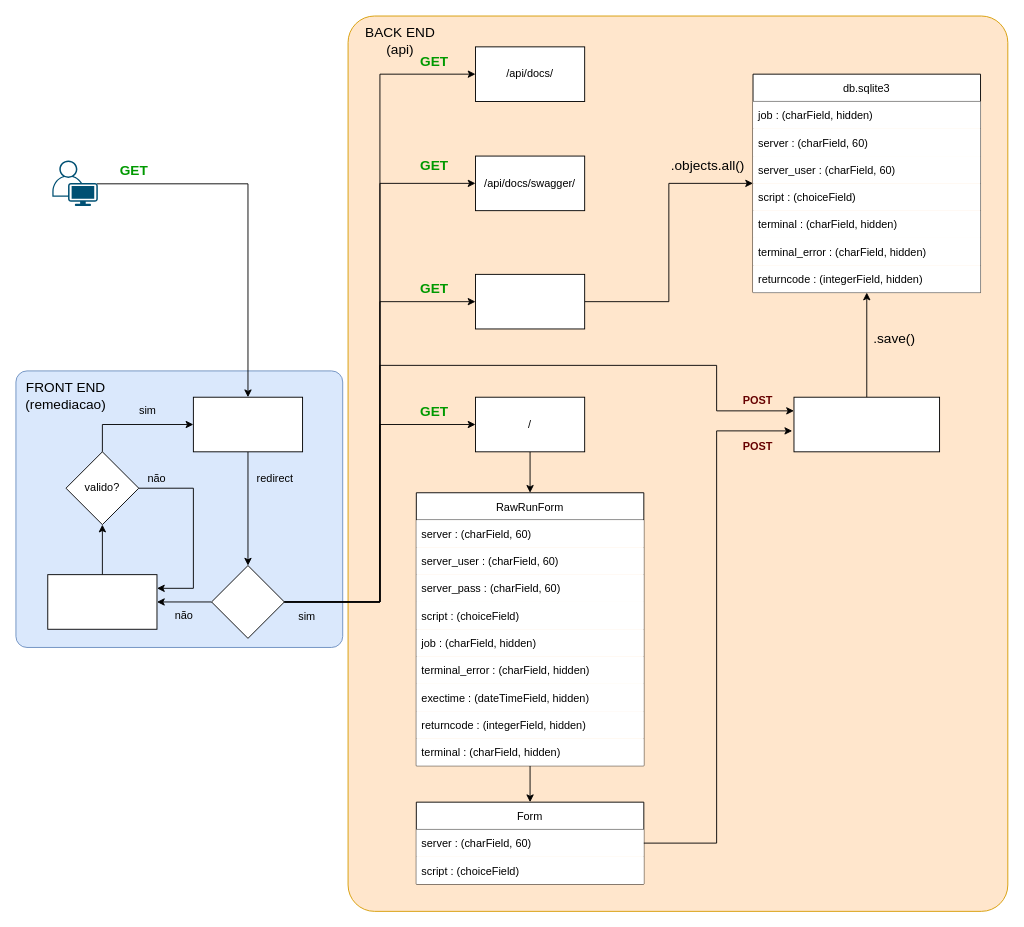
This 1024x927 diagram has some shape labels left out. Here are the shapes that lost their labels. From the top down, the centre of each, then its label:
point 530,301: /api/history/
point 247,424: localhost:8000/*
point 866,424: /api/run/
point 102,601: Django login
point 247,601: logado?
